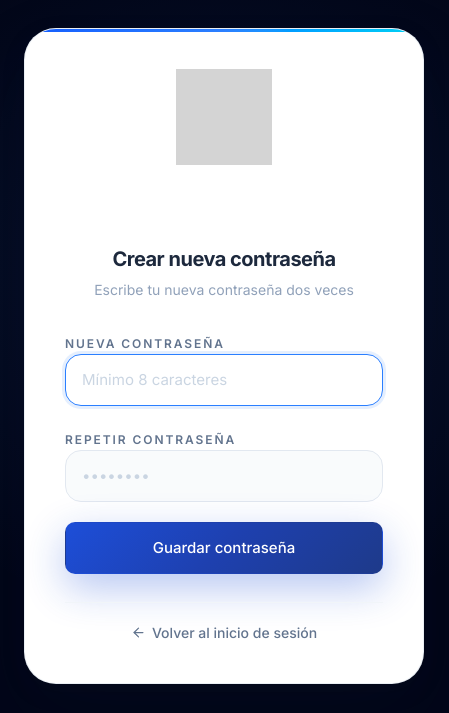
Test: ResetPasswordPage › avisa si las dos contraseñas no coinciden
The width and height of the screenshot is (449, 713).
Type "ClaveNueva123" into the password field with placeholder "Mínimo 8 caracteres" at (224,380), box [65,354,383,406]
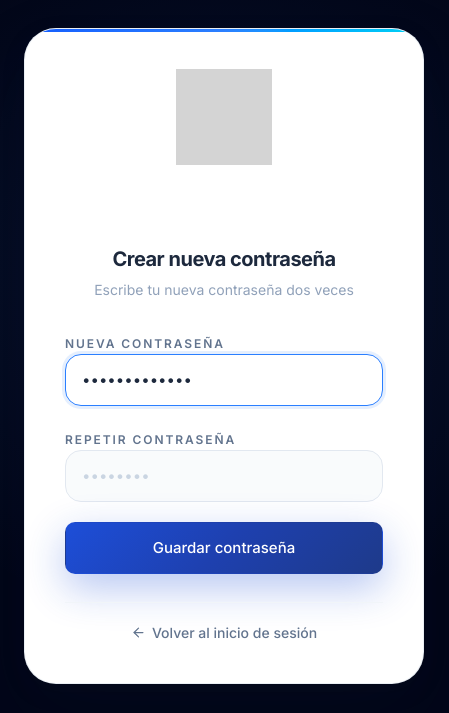
Type "ClaveNueva124" into the password field with placeholder "••••••••" at (224,476), box [65,450,383,502]
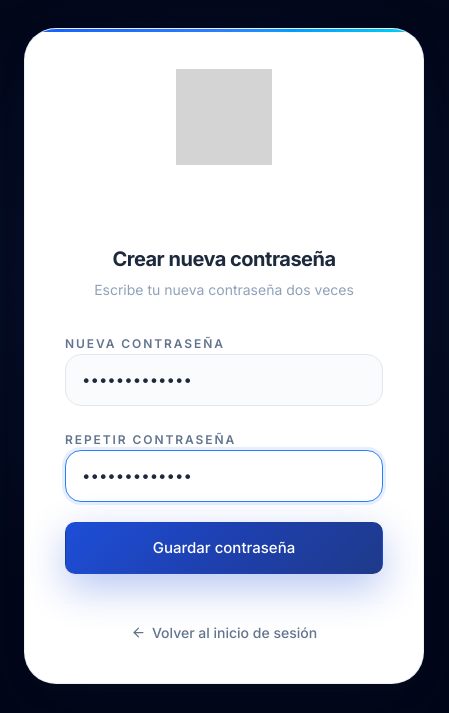
Click the button "Guardar contraseña" at (224,548), box [65,522,383,574]
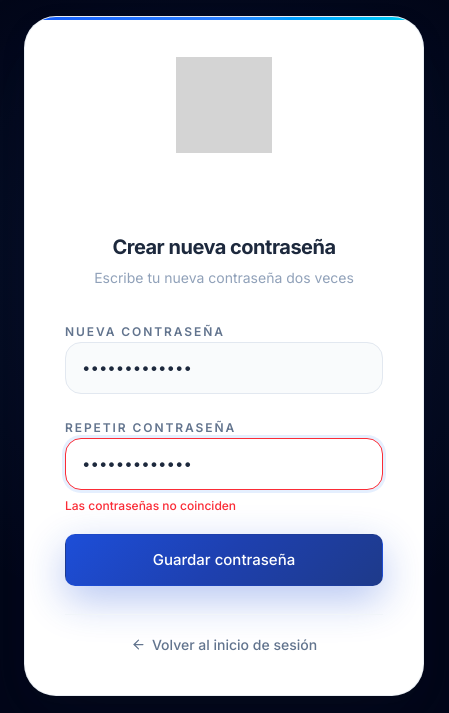
expect the text "Las contraseñas no coinciden" is shown: met, box [65,498,236,513]
